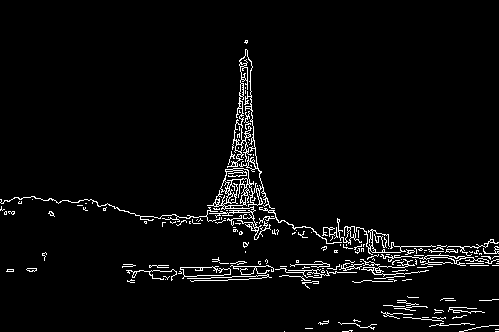eiffel tower: (180, 23, 304, 251)
